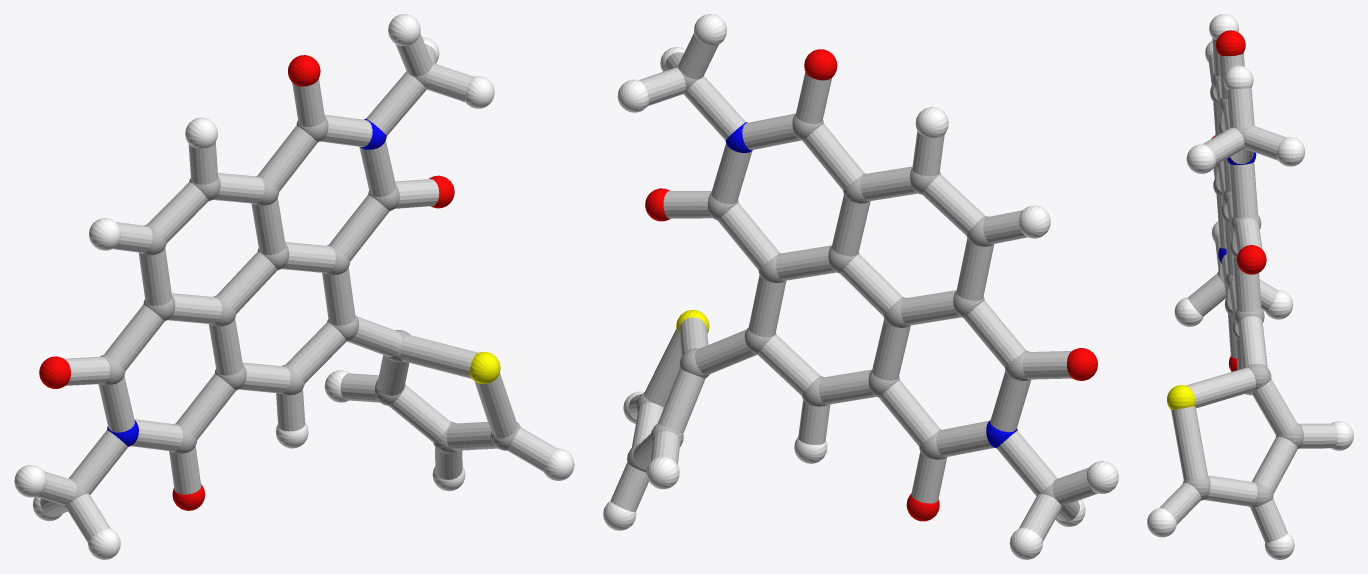
File: color.glb
3 views of the same model, side by side, from view 1: azimuth 30°, elevation 25°; view 2: azimuth 150°, elevation 25°; view 3: azimuth 270°, elevation 25° (orthographic). The views are drawn at different scales.
Visible parts, largest first — view 1: grp14119, grp7241, grp1, grp12309, grp13757, grp11585; view 2: grp14119, grp7241, grp1, grp12309, grp11585; view 3: grp14119, grp7241, grp1, grp12309, grp13757.
Boxes of the visible parts, x1,y1,x2,y2 form: grp14119: [36, 34, 556, 542]; grp7241: [14, 14, 574, 559]; grp1: [61, 61, 520, 508]; grp12309: [39, 55, 454, 510]; grp13757: [470, 351, 500, 384]; grp11585: [107, 118, 386, 446]; grp14119: [610, 33, 1097, 541]; grp7241: [603, 14, 1118, 559]; grp1: [627, 64, 1065, 509]; grp12309: [645, 49, 1097, 521]; grp11585: [725, 122, 1017, 448]; grp14119: [1159, 38, 1337, 542]; grp7241: [1147, 14, 1353, 559]; grp1: [1183, 73, 1303, 507]; grp12309: [1211, 30, 1266, 371]; grp13757: [1167, 385, 1195, 409].
Bounding box in the file's own units: 10.99 × 10.23 × 4.15.
